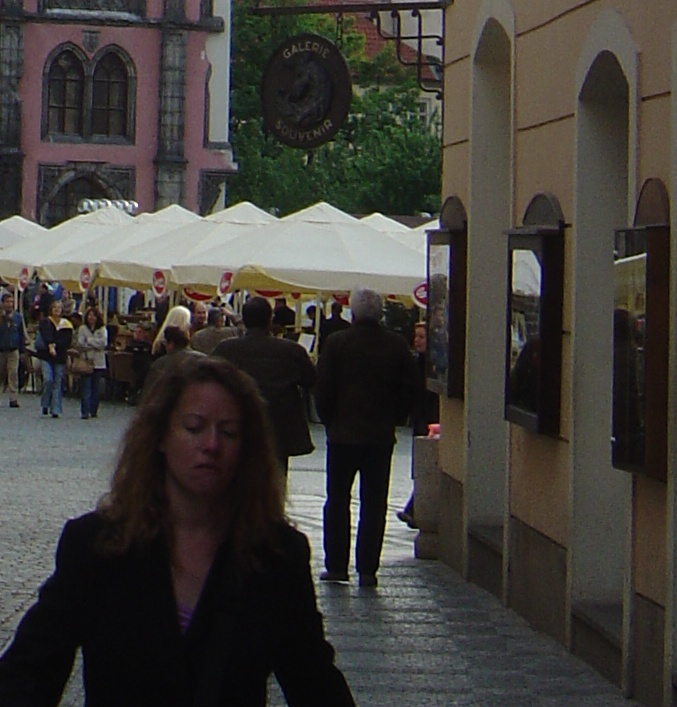person: (320, 286, 407, 589)
